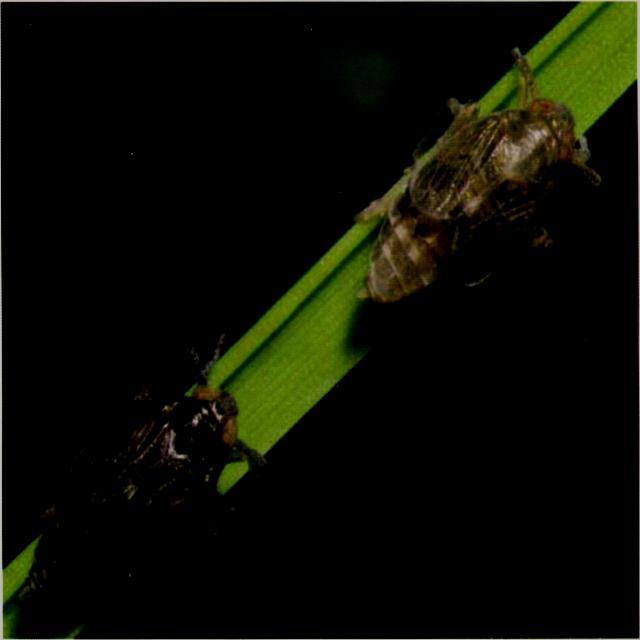ricebug: (16, 334, 264, 631), (356, 49, 599, 303)
